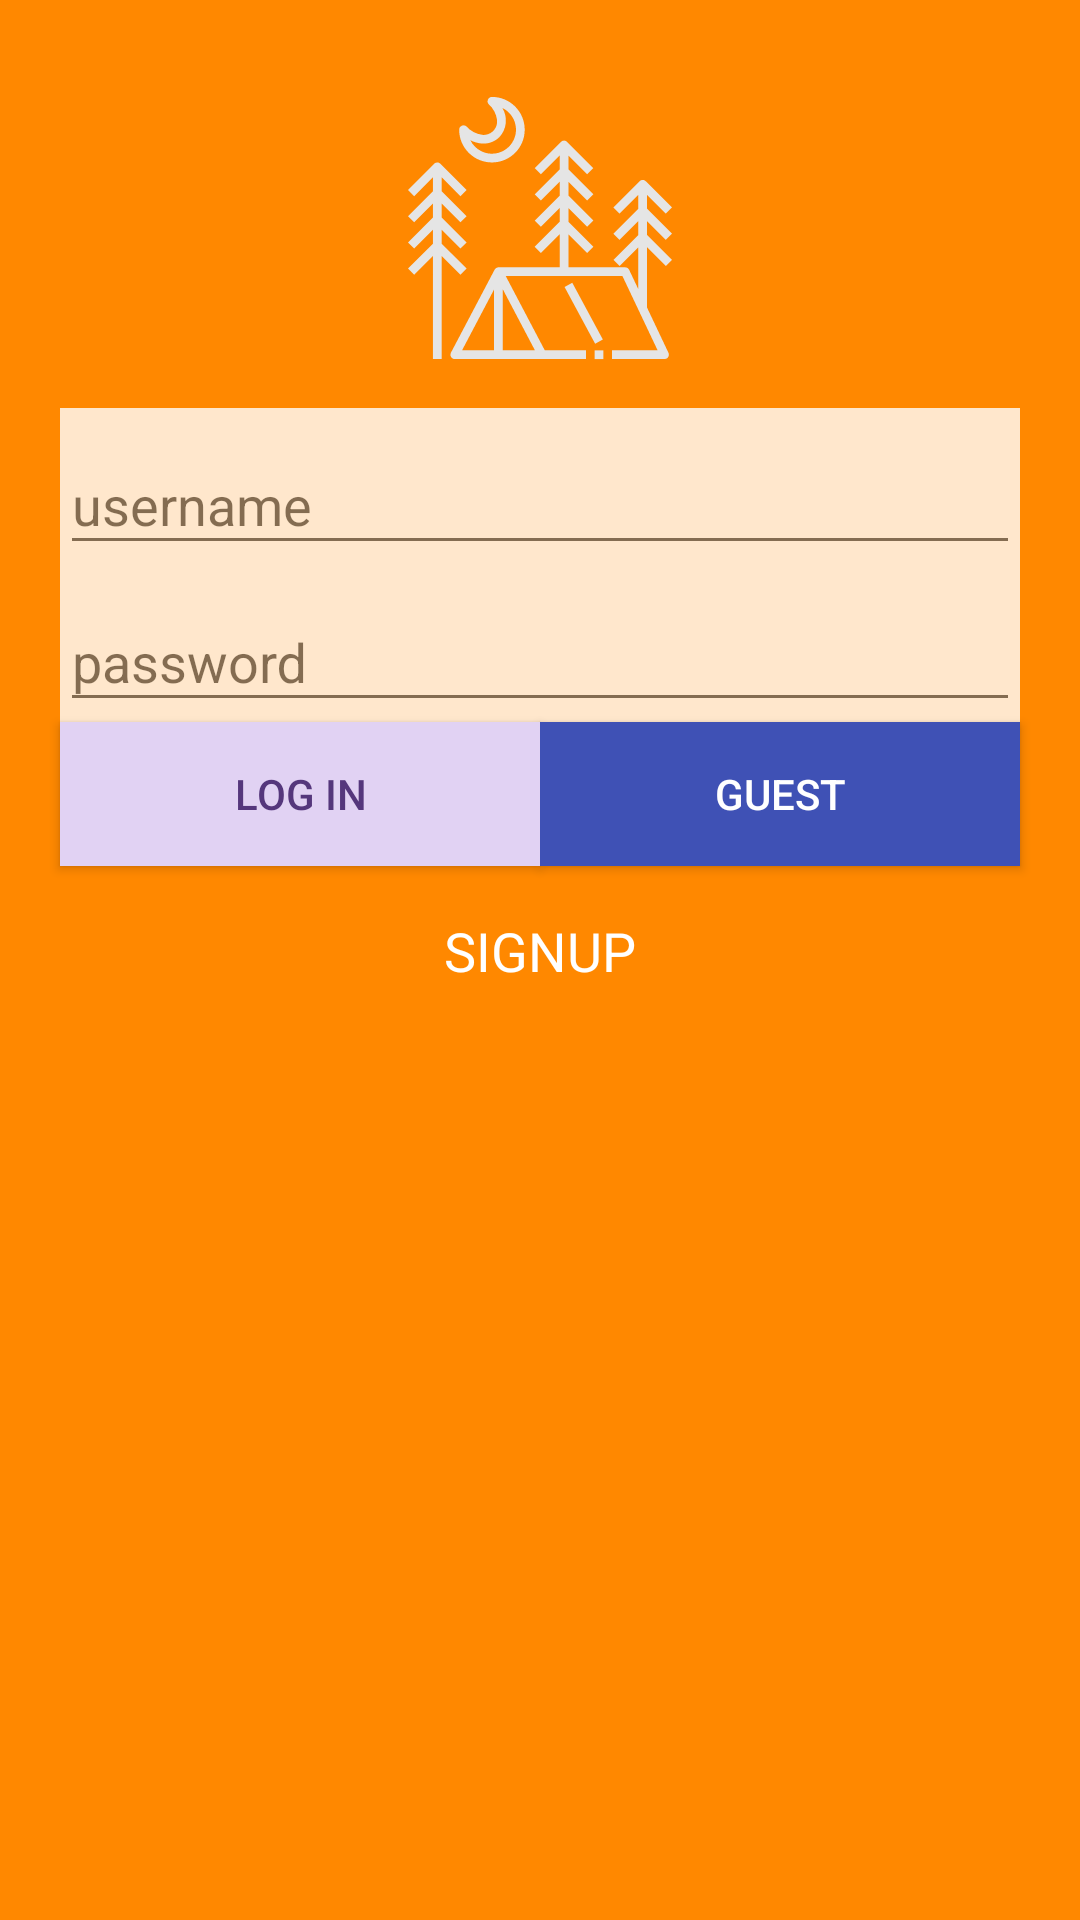

Where to tap for icons on this 1080px×1920px app screen, as (x=x, y=y):
tent: (x=540, y=228)
